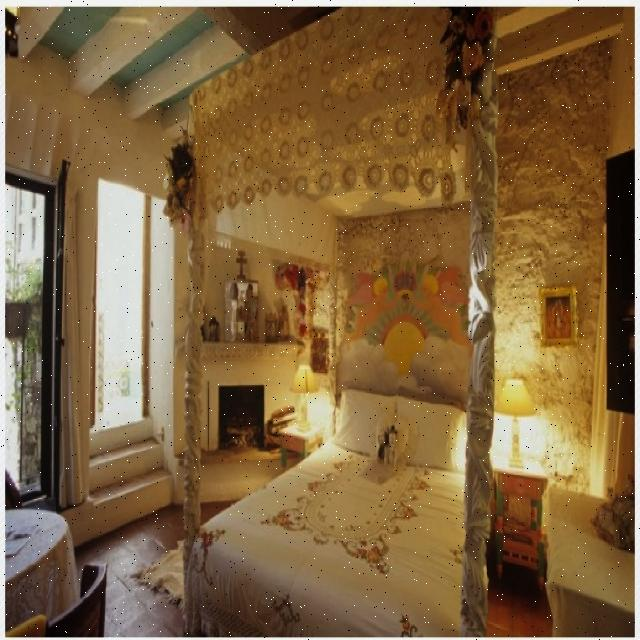bed: (198, 377, 484, 640)
